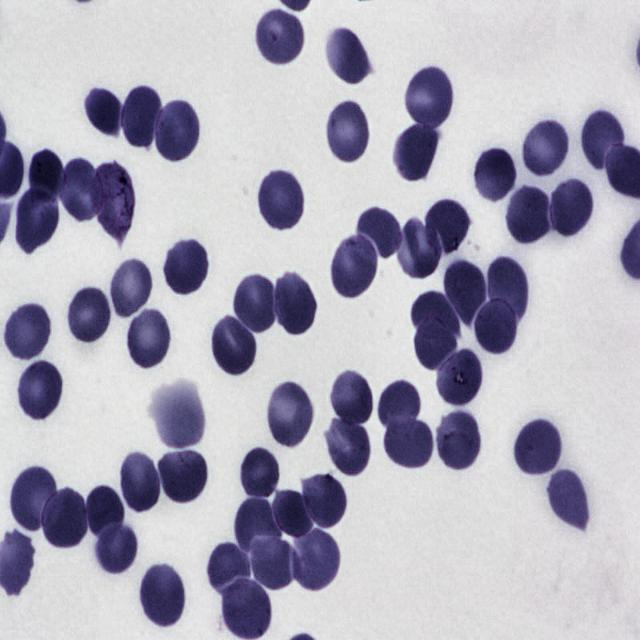red blood cell: (265, 378, 316, 449), (218, 574, 274, 638), (288, 531, 344, 594), (329, 235, 380, 302), (253, 8, 307, 69), (152, 391, 206, 452), (519, 120, 572, 182), (16, 184, 61, 257), (406, 68, 456, 132), (324, 98, 371, 165), (546, 465, 592, 533), (124, 307, 172, 372), (138, 565, 185, 631), (255, 171, 305, 233), (435, 408, 483, 472), (153, 99, 201, 163), (10, 466, 58, 530), (395, 215, 442, 280), (579, 108, 625, 174), (58, 157, 102, 226), (210, 314, 258, 377), (514, 421, 565, 480), (108, 257, 154, 322), (548, 176, 595, 238), (443, 264, 488, 328), (436, 346, 483, 407), (486, 254, 530, 319), (326, 416, 372, 478), (326, 26, 370, 90), (395, 122, 441, 183), (506, 186, 553, 245), (250, 533, 296, 593), (233, 275, 278, 336), (234, 498, 282, 554), (68, 282, 111, 344), (19, 360, 62, 422), (42, 487, 84, 550), (118, 452, 160, 514), (122, 85, 162, 150), (94, 518, 138, 577), (4, 304, 52, 358), (207, 541, 254, 596), (300, 471, 346, 527), (475, 305, 521, 361), (276, 271, 316, 335), (164, 238, 208, 296), (159, 447, 207, 500), (474, 147, 518, 204), (411, 289, 461, 339), (384, 419, 432, 470), (428, 194, 470, 252), (414, 316, 459, 370), (358, 205, 406, 255), (331, 371, 374, 426), (379, 379, 422, 432), (273, 490, 315, 543), (240, 447, 280, 501), (86, 485, 124, 540), (28, 148, 67, 200), (81, 90, 122, 138)
ring: (90, 160, 134, 242)
